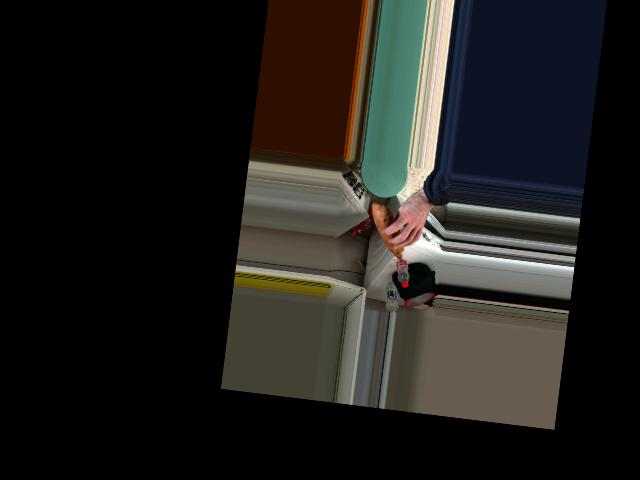sweet_potato: (366, 209, 414, 258)
